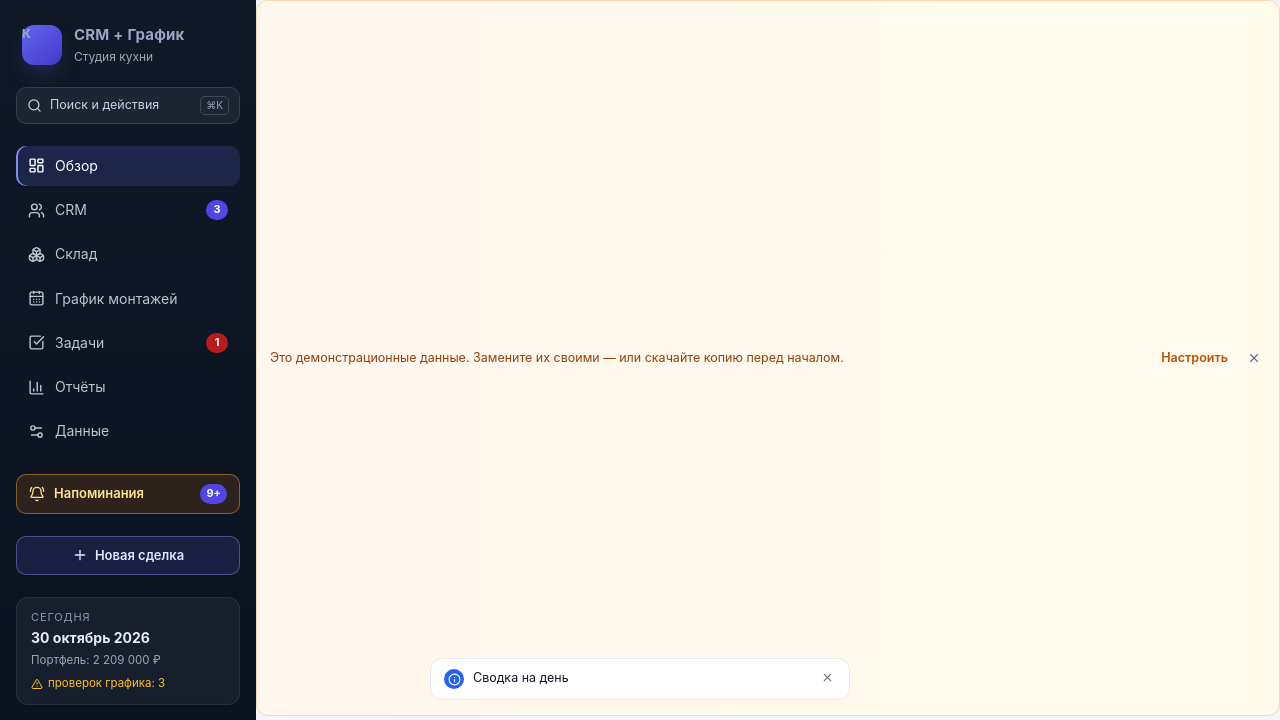
Test: общая база в интерфейсе › не подключается по несуществующему коду и не теряет данные
Click the button "Данные": (128, 432) [16, 411, 240, 452]
(page scrolled)
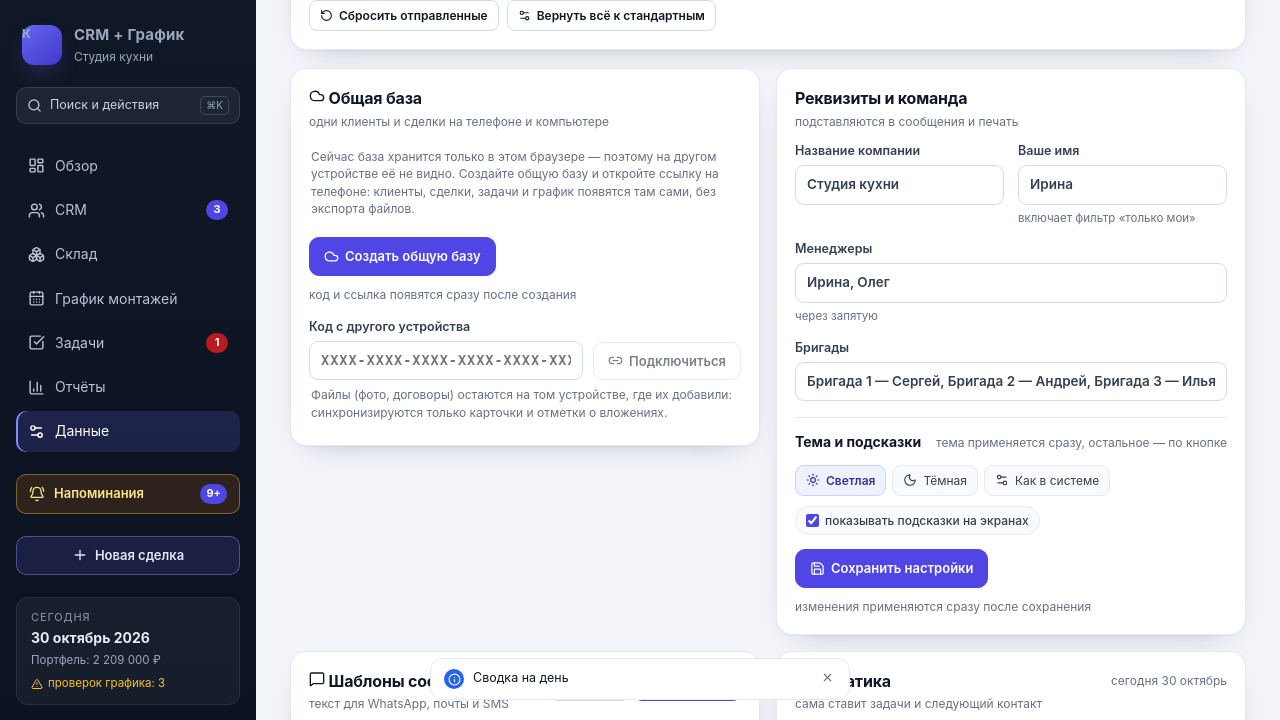
In the field labelled "Код с другого устройства": (446, 361) [309, 341, 583, 380], type "ZZZZ-ZZZZ-ZZZZ-ZZZZ-ZZZZ-ZZZZ"
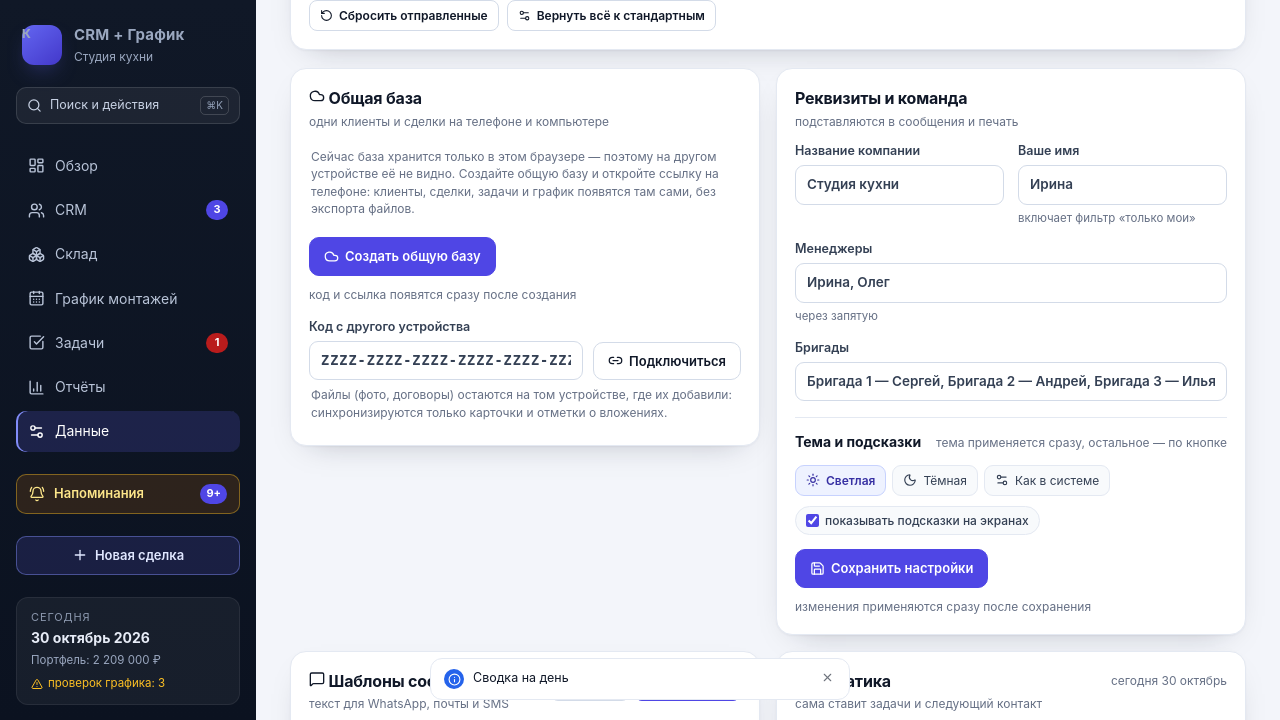
Click the button "Подключиться": (667, 361) [593, 342, 741, 380]
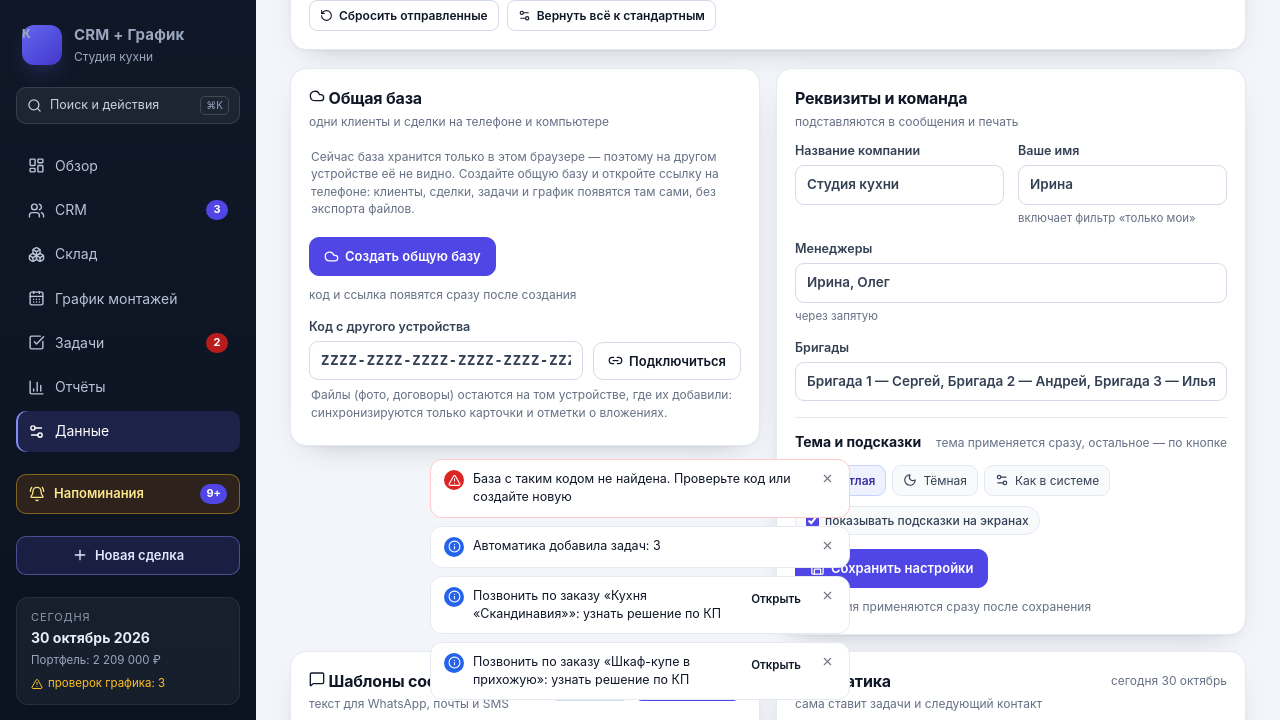
expect the button "Создать общую базу" is shown: met, box [309, 238, 496, 276]
expect the text "База с таким кодом не найдена" is shown: met, box [473, 471, 791, 504]
